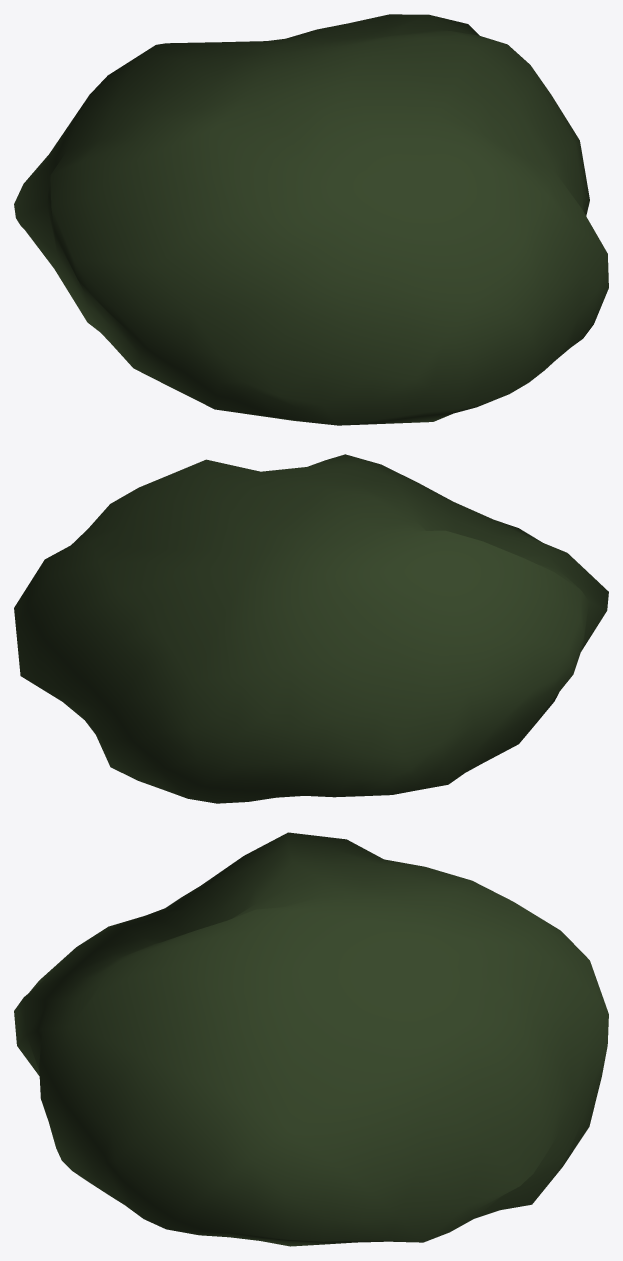
Rendered from RockBig02.fbx.
3 views of the same model, one above another, from view 1: azimuth 30°, elevation 25°; view 2: azimuth 150°, elevation 25°; view 3: azimuth 270°, elevation 25° (orthographic). The views are drawn at different scales.
Visible parts, largest first — view 1: RockBig02; view 2: RockBig02; view 3: RockBig02.
Boxes of the visible parts, left/top/right/bottom form: RockBig02: left=14, top=14, right=608, bottom=425; RockBig02: left=14, top=454, right=608, bottom=803; RockBig02: left=14, top=832, right=608, bottom=1246.
Size of the model in its own units: 28.3 by 14.76 by 28.41.
